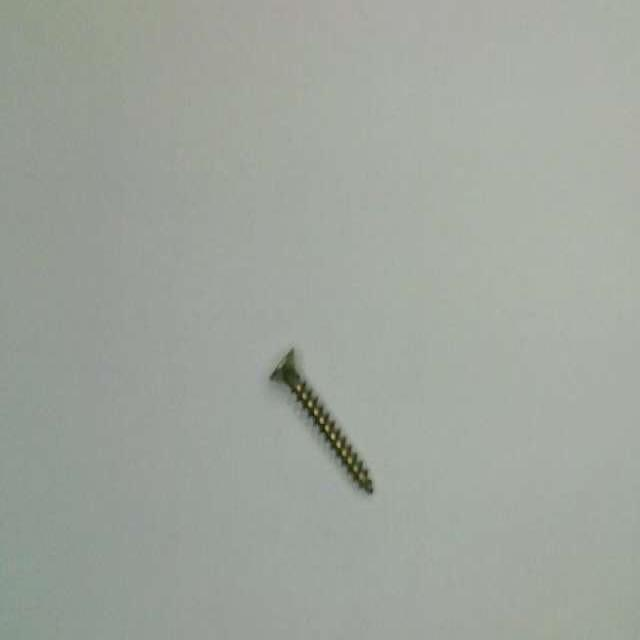Parafuso: (271, 349, 372, 492)
